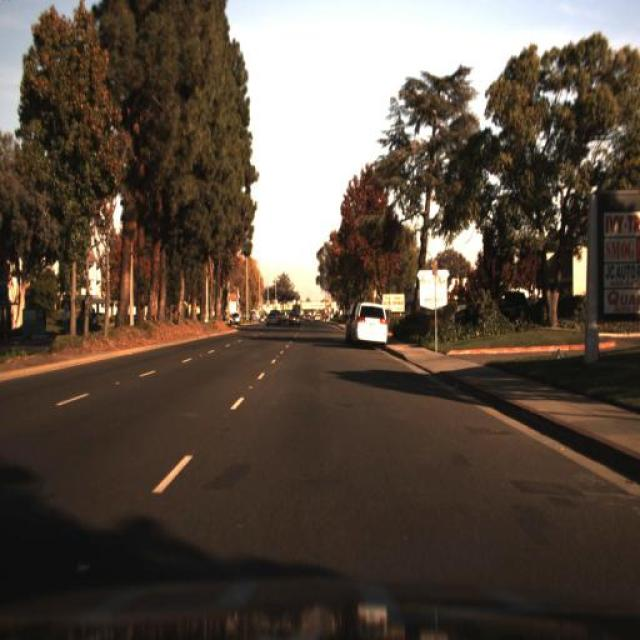car: (451, 283, 540, 325), (339, 296, 399, 353), (263, 302, 283, 328), (285, 307, 303, 334), (228, 304, 243, 331)
